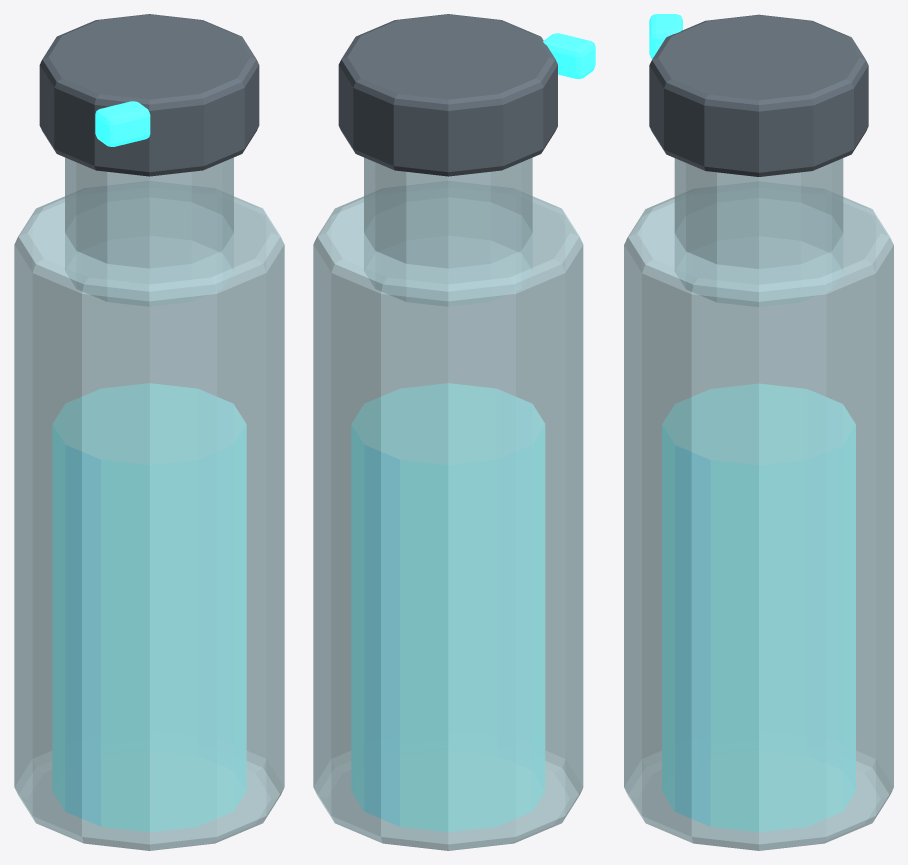
Rendered from item_ch1_compound_a.glb.
The picture shows the model from 3 angles, left to right: view 1: azimuth 30°, elevation 25°; view 2: azimuth 150°, elevation 25°; view 3: azimuth 270°, elevation 25°; orthographic projection.
Parts seen in each view (by area): view 1: Glass ampoule, Clear contents, Sealed cap, Narrow neck, Cap witness notch; view 2: Glass ampoule, Clear contents, Sealed cap, Narrow neck, Cap witness notch; view 3: Glass ampoule, Clear contents, Sealed cap, Narrow neck, Cap witness notch.
Boxes of the visible parts, x1,y1,x2,y2 form: Glass ampoule: [14, 181, 284, 850]; Clear contents: [52, 383, 246, 831]; Sealed cap: [39, 14, 259, 176]; Narrow neck: [65, 157, 233, 306]; Cap witness notch: [95, 101, 150, 146]; Glass ampoule: [313, 181, 583, 850]; Clear contents: [351, 383, 544, 831]; Sealed cap: [338, 14, 557, 176]; Narrow neck: [364, 157, 532, 306]; Cap witness notch: [543, 33, 595, 78]; Glass ampoule: [624, 182, 893, 850]; Clear contents: [662, 384, 855, 831]; Sealed cap: [649, 14, 868, 176]; Narrow neck: [674, 158, 843, 306]; Cap witness notch: [649, 14, 682, 58].
Bounding box in the file's own units: 0.032 × 0.097 × 0.032.
